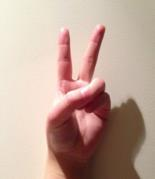front: (43, 23, 114, 158)
